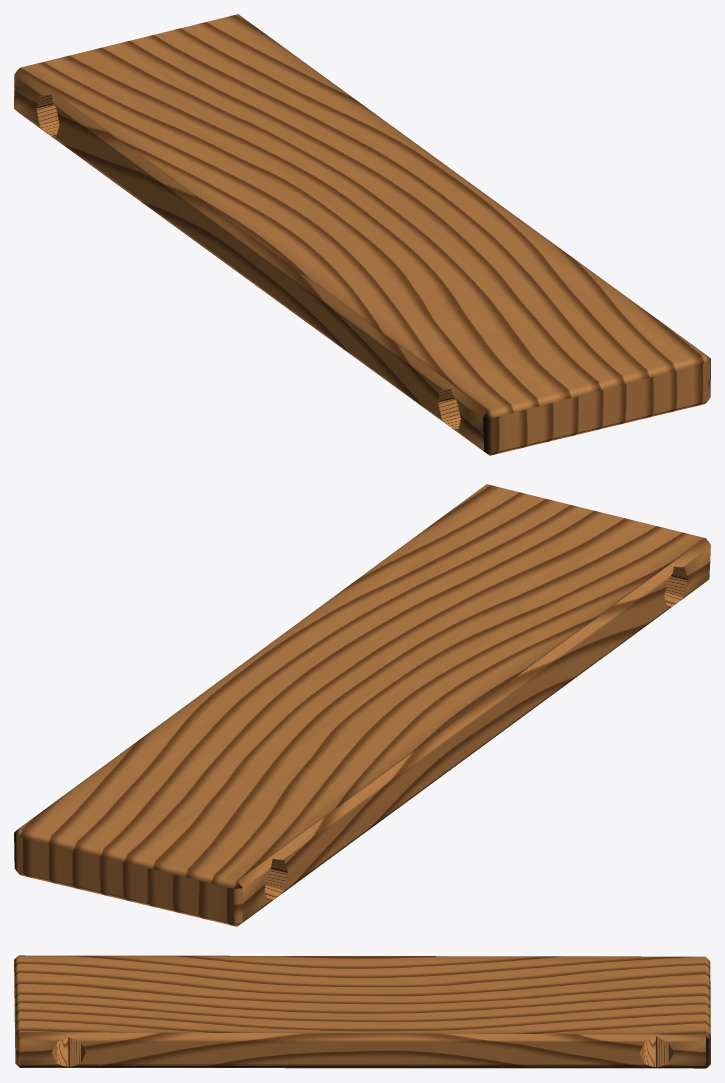
Rendered from Plank.glb.
3 renders of one model, top to bottom at view 1: azimuth 30°, elevation 25°; view 2: azimuth 150°, elevation 25°; view 3: azimuth 270°, elevation 25°, orthographic. The views are drawn at different scales.
Visible parts, largest first — view 1: Plank; view 2: Plank; view 3: Plank.
Part boxes in pixels (x1,y1,x2,y2): Plank: [14, 14, 710, 455]; Plank: [14, 484, 710, 926]; Plank: [14, 955, 710, 1068].
Size of the model in its own units: 0.2516 by 0.0519 by 0.9015.
1 material, 1 textured.
